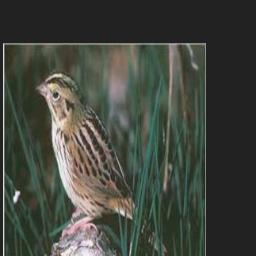Sparrow: (35, 69, 186, 256)
